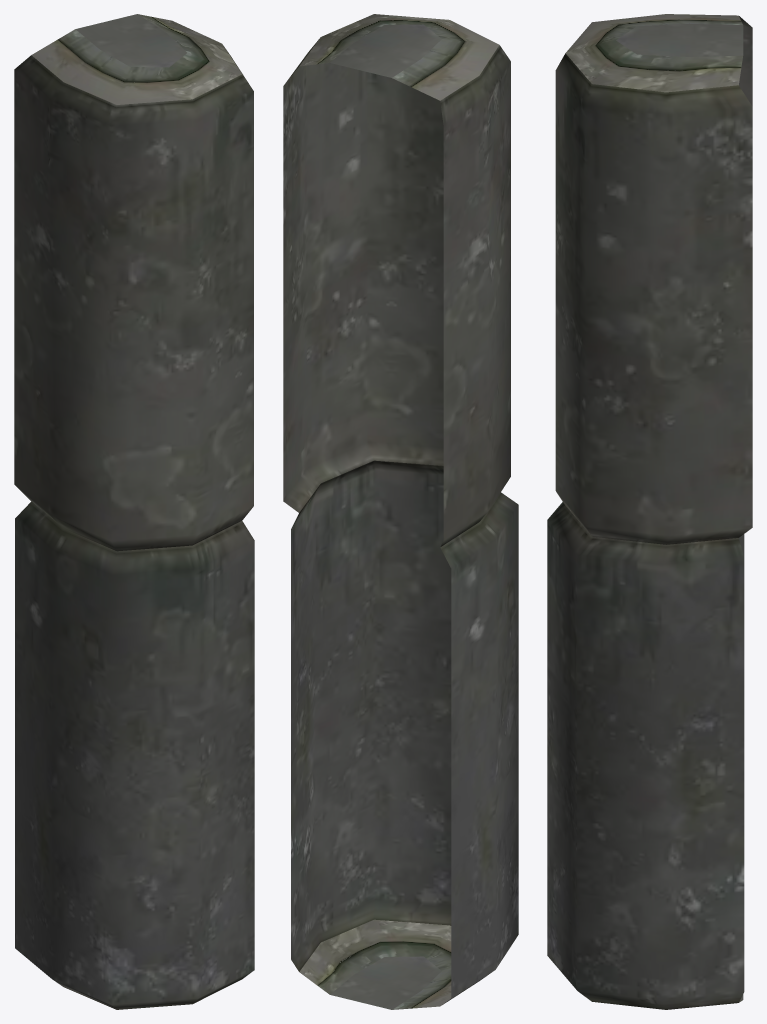
The picture shows the model from 3 angles, left to right: view 1: azimuth 30°, elevation 25°; view 2: azimuth 150°, elevation 25°; view 3: azimuth 270°, elevation 25°; orthographic projection.
Parts seen in each view (by area): view 1: SM_DeathTemple_Detail_1x14_01_v1_LOD0; view 2: SM_DeathTemple_Detail_1x14_01_v1_LOD0; view 3: SM_DeathTemple_Detail_1x14_01_v1_LOD0.
Boxes of the visible parts, x1=… form: SM_DeathTemple_Detail_1x14_01_v1_LOD0: x1=14, y1=14, x2=254, y2=1009; SM_DeathTemple_Detail_1x14_01_v1_LOD0: x1=283, y1=14, x2=518, y2=1009; SM_DeathTemple_Detail_1x14_01_v1_LOD0: x1=547, y1=14, x2=752, y2=1009.
Bounding box in the file's own units: 0.424 × 2.06 × 0.4054.
